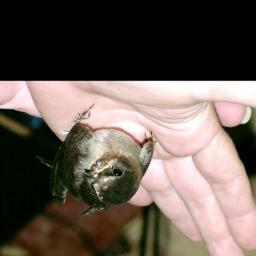Swallow: (33, 100, 157, 219)
